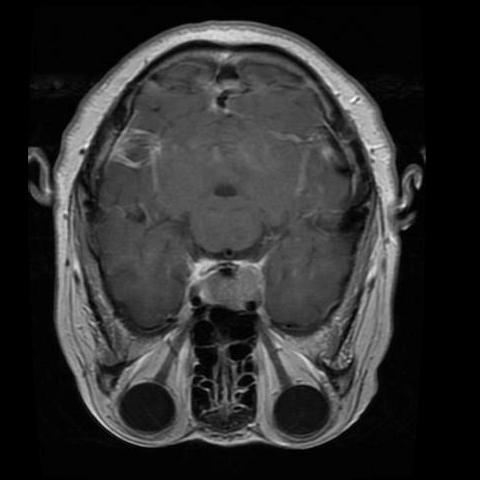Tumour-Pituitary: (181, 254, 281, 308)
